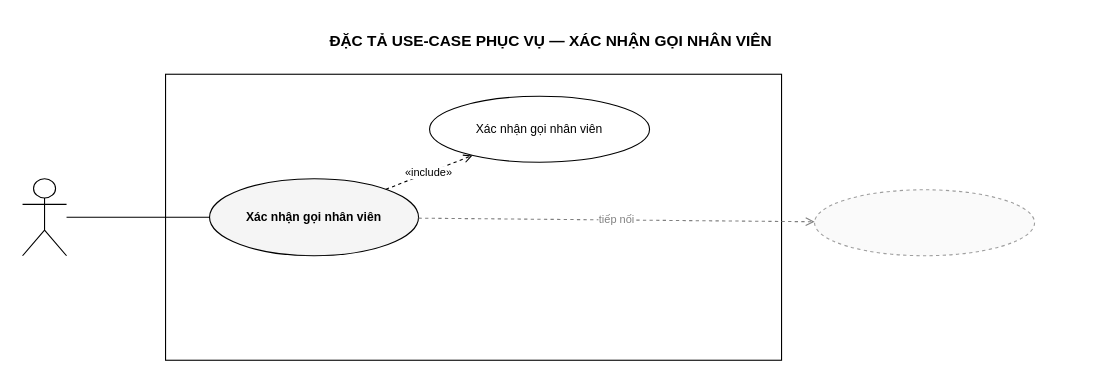
The diagram is 1098 pixels wide and 380 high, and some of its shapes have lost their labels. Here are the shapes that lost their labels. From the top down, the centre of each, then its label:
At point (44, 217): "Phục vụ".
At point (924, 222): "Theo dõi tín hiệu bàn (UC-11)".
